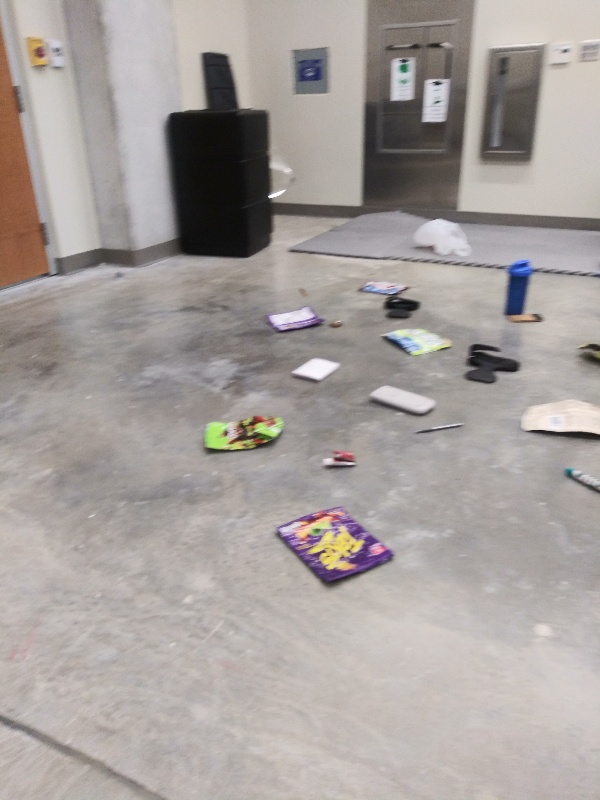bag: (271, 507, 399, 587), (517, 396, 600, 442), (378, 321, 457, 362), (198, 415, 287, 451), (259, 306, 327, 335), (354, 276, 414, 294)
